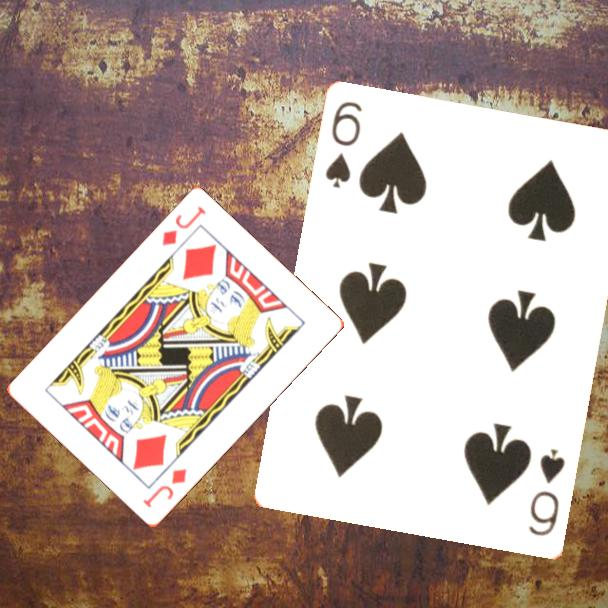d11: (158, 203, 209, 250), (139, 465, 190, 511)
s06: (322, 98, 366, 192), (526, 445, 569, 540)
